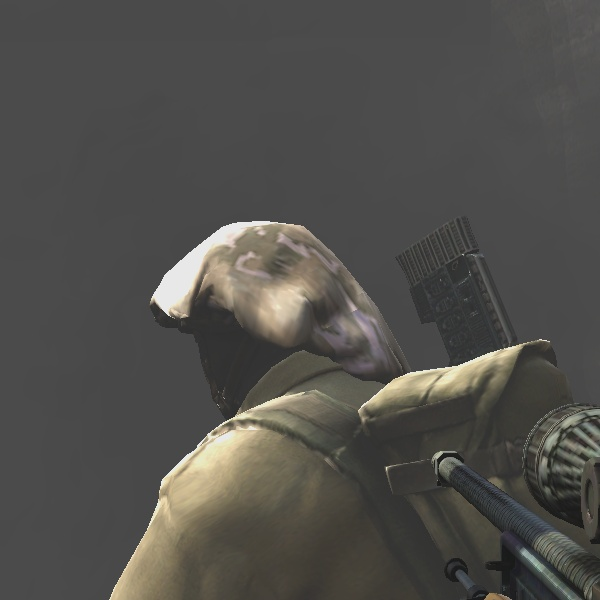ct_body: (68, 199, 479, 600)
ct_head: (141, 208, 385, 431)
